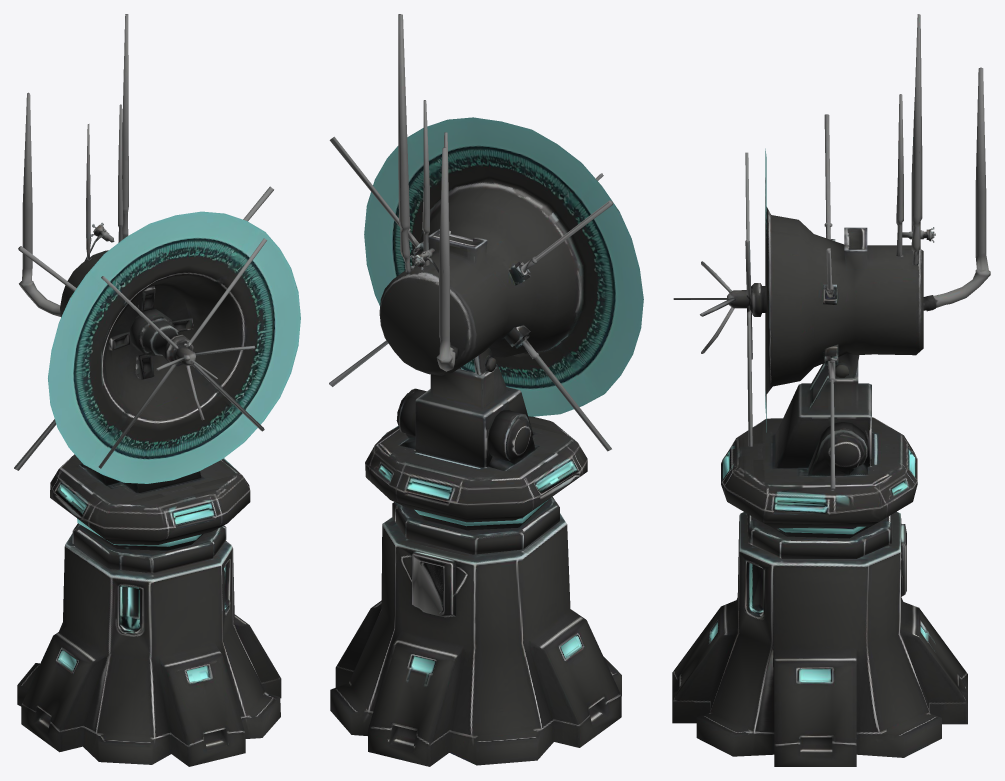
The model's file is selected.glb.
3 renders of one model, left to right at view 1: azimuth 30°, elevation 25°; view 2: azimuth 150°, elevation 25°; view 3: azimuth 270°, elevation 25°, orthographic. The views are drawn at different scales.
Visible parts, largest first — view 1: tripo_node_7ff56ccc-dc8d-4c3f-8684-c7aaced40c13; view 2: tripo_node_7ff56ccc-dc8d-4c3f-8684-c7aaced40c13; view 3: tripo_node_7ff56ccc-dc8d-4c3f-8684-c7aaced40c13.
Part boxes in pixels (bbox=[...]): tripo_node_7ff56ccc-dc8d-4c3f-8684-c7aaced40c13: bbox=[14, 14, 300, 766]; tripo_node_7ff56ccc-dc8d-4c3f-8684-c7aaced40c13: bbox=[329, 14, 643, 766]; tripo_node_7ff56ccc-dc8d-4c3f-8684-c7aaced40c13: bbox=[672, 14, 990, 766].
Bounding box in the file's own units: 0.4121 × 0.998 × 0.4082.
Materials: 1 (1 with a texture image).
